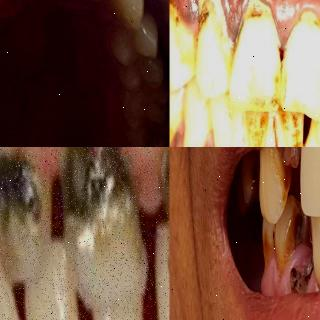Gum Swelling: (262, 0, 320, 48)
calculus: (240, 0, 278, 60), (193, 0, 232, 58), (286, 3, 320, 62), (232, 106, 266, 147), (261, 221, 278, 278), (264, 113, 289, 147), (170, 0, 186, 49)
cavities: (72, 147, 138, 301), (0, 147, 44, 265), (289, 205, 311, 257), (246, 154, 260, 198)
stains: (241, 104, 272, 147), (278, 109, 305, 147), (272, 61, 291, 106), (274, 165, 293, 207)
